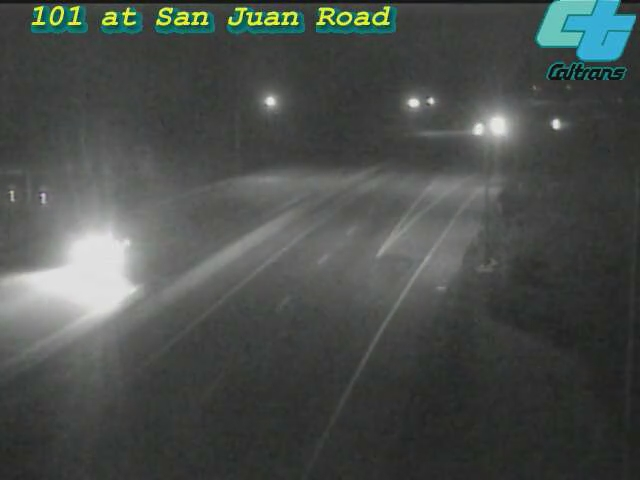vehicle: (57, 212, 137, 292), (530, 100, 580, 150), (453, 104, 503, 154), (471, 101, 521, 151)
